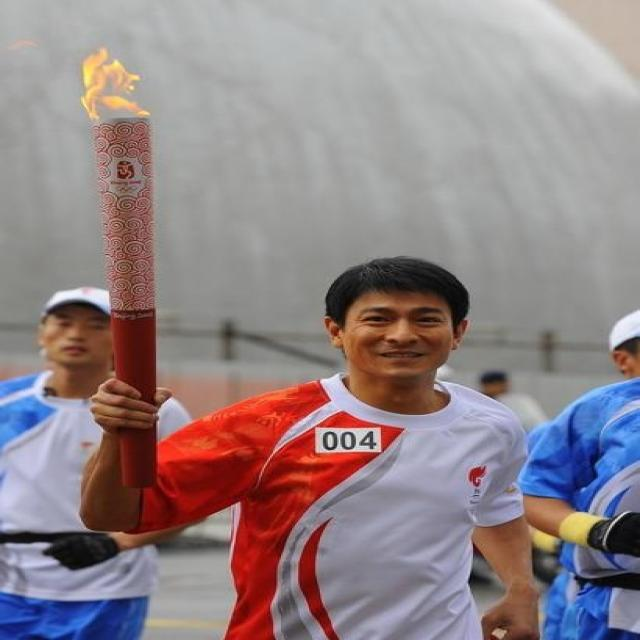Fire: (72, 42, 154, 120)
Smoke: (151, 484, 228, 639)
